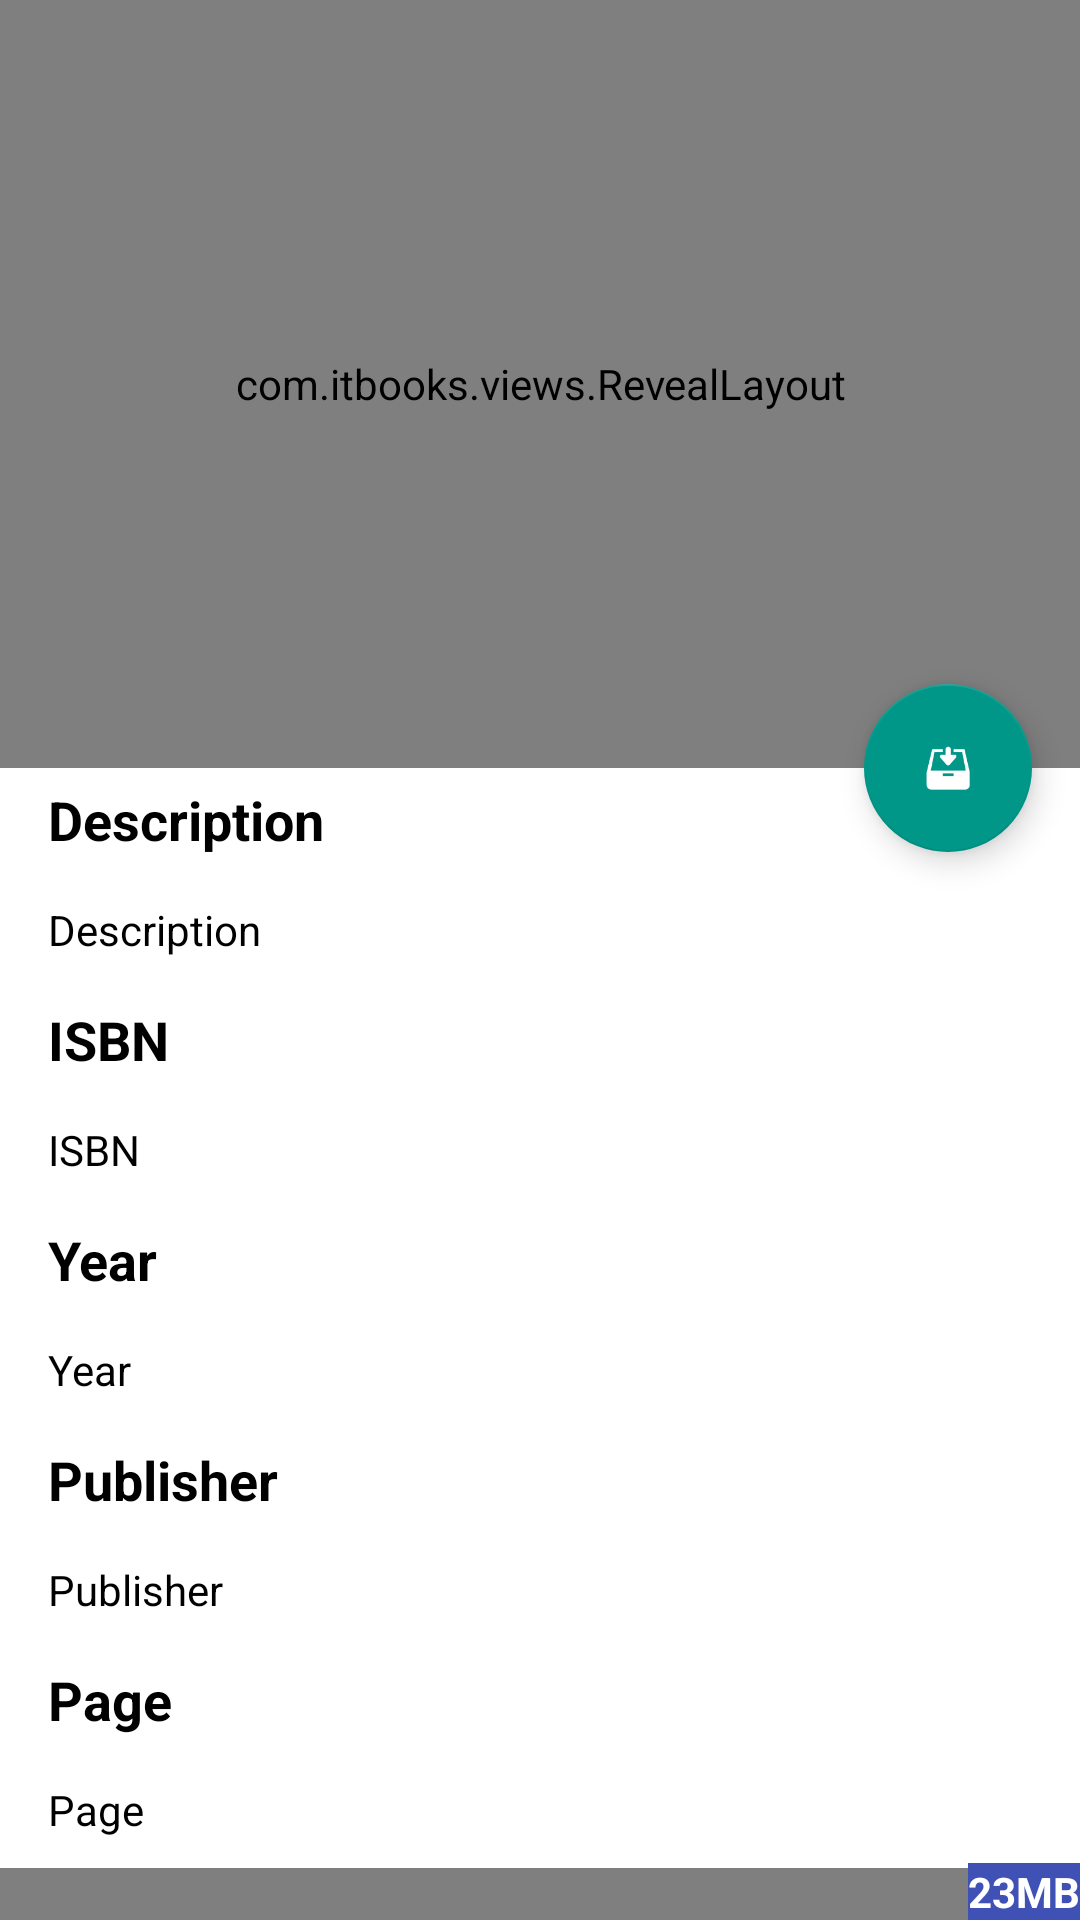

Screen size 1080×1920. Icon name, then its center in pixels as (x=x, y=y):
download: (x=948, y=768)
